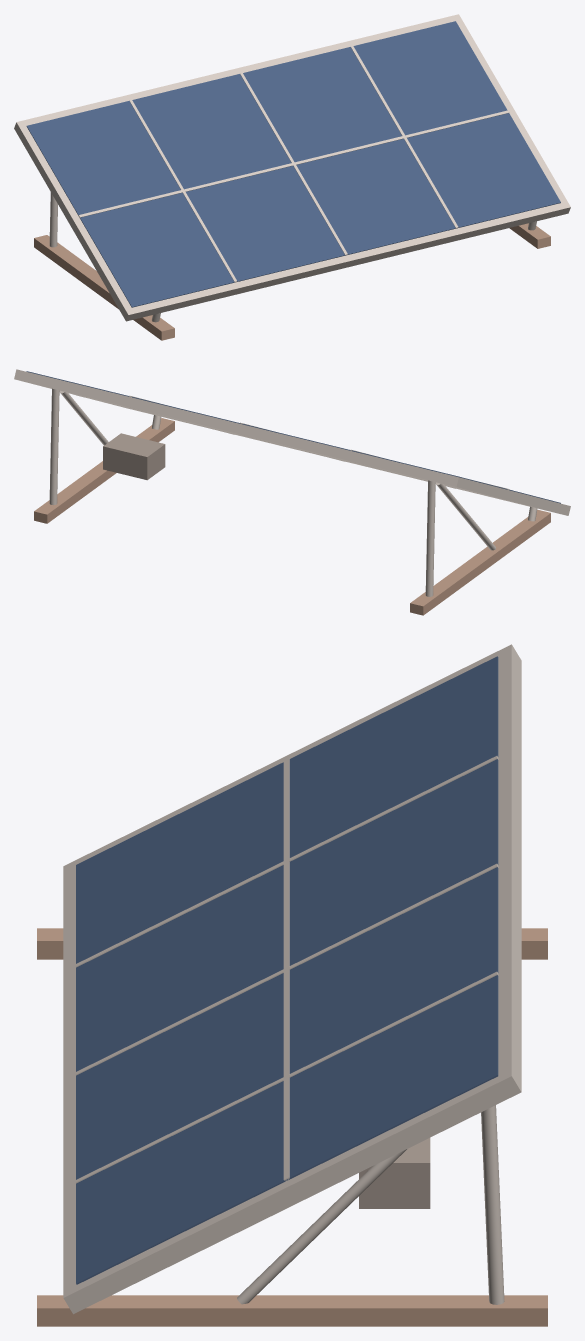
File: P05_roof_solar_panel.glb
3 views of the same model, one above another, from view 1: azimuth 30°, elevation 25°; view 2: azimuth 150°, elevation 25°; view 3: azimuth 270°, elevation 25° (orthographic). The views are drawn at different scales.
Visible parts, largest first — view 1: cells, panel_frame, cell_divider (×4), frame_foot (×2), rear_leg; view 2: panel_frame, frame_foot (×2), junction_box, rear_leg (×2), brace (×2), cells, cell_divider; view 3: cells, panel_frame, frame_foot (×2), cell_divider (×4), junction_box, rear_leg, brace.
Part boxes in pixels (left/top/right/bottom): cells: left=26, top=21, right=560, bottom=307; panel_frame: left=14, top=14, right=570, bottom=321; cell_divider (×4): left=78, top=46, right=509, bottom=282; frame_foot (×2): left=34, top=223, right=550, bottom=340; rear_leg: left=49, top=192, right=57, bottom=247; panel_frame: left=14, top=369, right=570, bottom=515; frame_foot (×2): left=34, top=418, right=550, bottom=615; junction_box: left=103, top=433, right=165, bottom=480; rear_leg (×2): left=49, top=388, right=435, bottom=596; brace (×2): left=59, top=390, right=495, bottom=550; cells: left=26, top=371, right=560, bottom=503; cell_divider: left=76, top=395, right=509, bottom=500; cells: left=76, top=656, right=498, bottom=1284; panel_frame: left=63, top=644, right=521, bottom=1314; frame_foot (×2): left=37, top=928, right=547, bottom=1326; cell_divider (×4): left=75, top=756, right=498, bottom=1183; junction_box: left=359, top=1138, right=430, bottom=1208; rear_leg: left=481, top=1105, right=504, bottom=1304; brace: left=237, top=1149, right=406, bottom=1304.
Size of the model in its own units: 2 by 0.5973 by 1.
